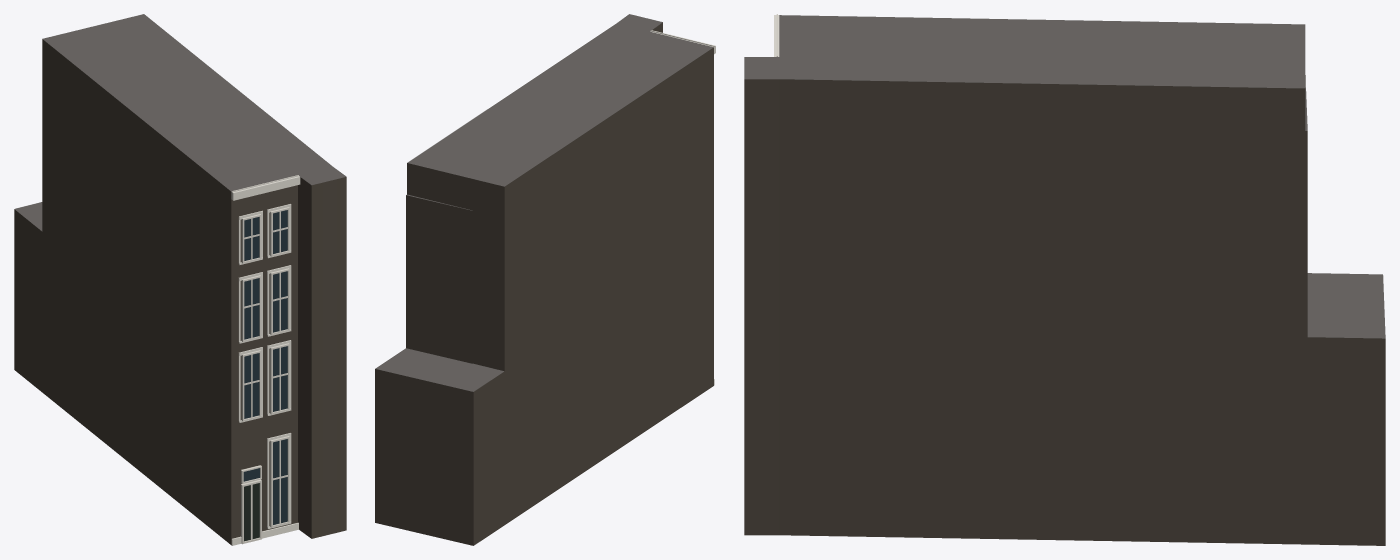
3 views of the same model, side by side, from view 1: azimuth 30°, elevation 25°; view 2: azimuth 150°, elevation 25°; view 3: azimuth 270°, elevation 25° (orthographic). The views are drawn at different scales.
Visible parts, largest first — view 1: spec-0363100012177362; view 2: spec-0363100012177362; view 3: spec-0363100012177362.
Part boxes in pixels (bbox=[...]): spec-0363100012177362: bbox=[14, 14, 346, 545]; spec-0363100012177362: bbox=[375, 14, 715, 545]; spec-0363100012177362: bbox=[744, 14, 1385, 545].
Size of the model in its own units: 5.71 by 16.27 by 20.68.
